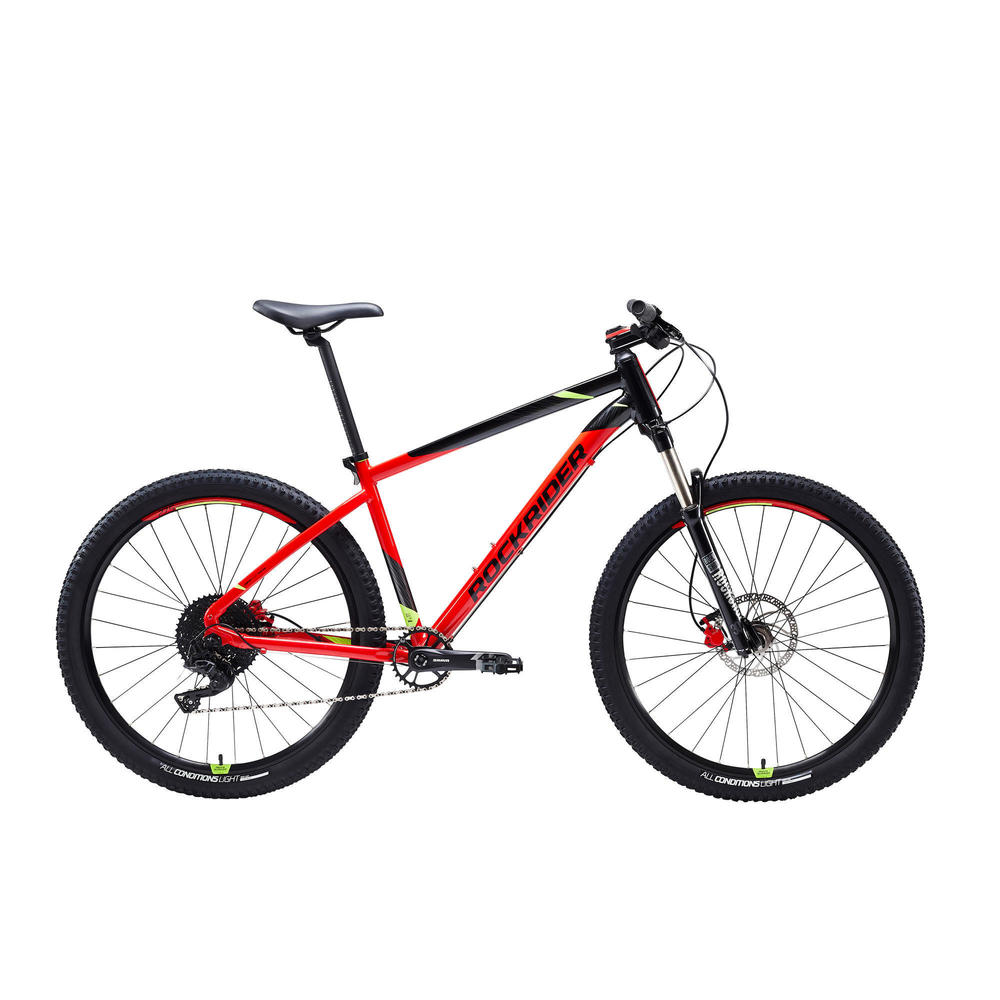MountainBike: (45, 284, 922, 802)
